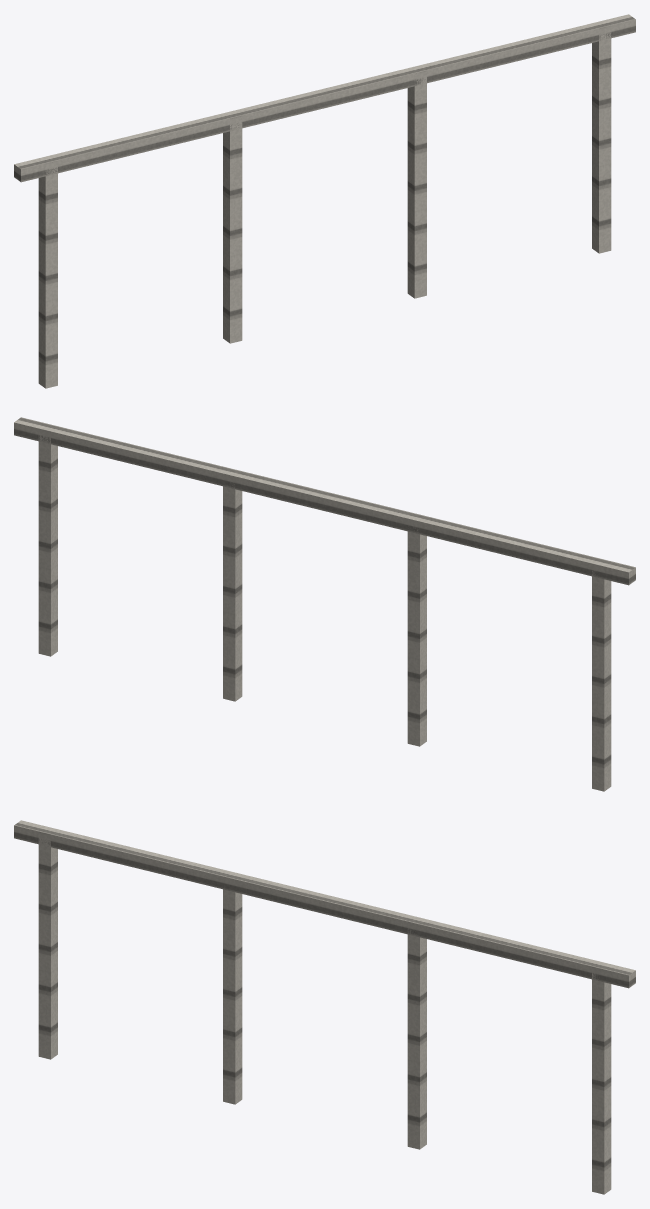
Rendered from bike_rack.glb.
3 renders of one model, top to bottom at view 1: azimuth 30°, elevation 25°; view 2: azimuth 150°, elevation 25°; view 3: azimuth 330°, elevation 25°, orthographic.
Visible parts, largest first — view 1: bike_rack-col; view 2: bike_rack-col; view 3: bike_rack-col.
Part boxes in pixels (x1=…): bike_rack-col: x1=14, y1=14, x2=635, y2=388; bike_rack-col: x1=14, y1=417, x2=635, y2=791; bike_rack-col: x1=14, y1=820, x2=635, y2=1194.
Bounding box in the file's own units: 2 × 0.7 × 0.04.
Materials: 1 (1 with a texture image).
